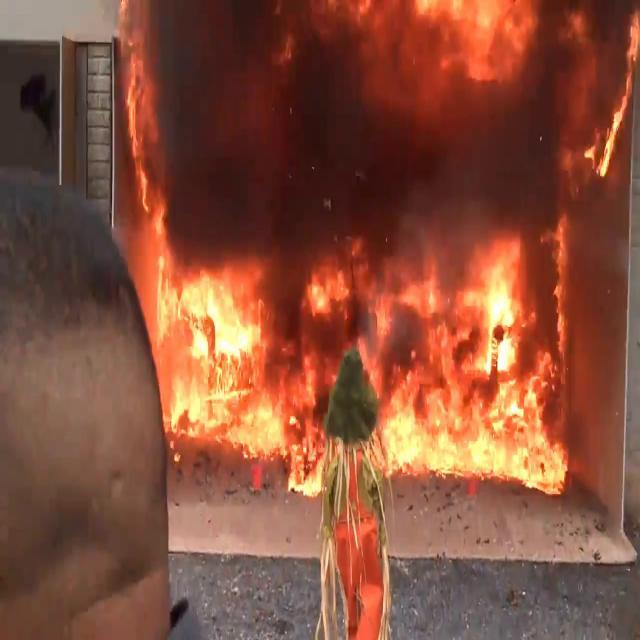Fire: (137, 2, 618, 496)
